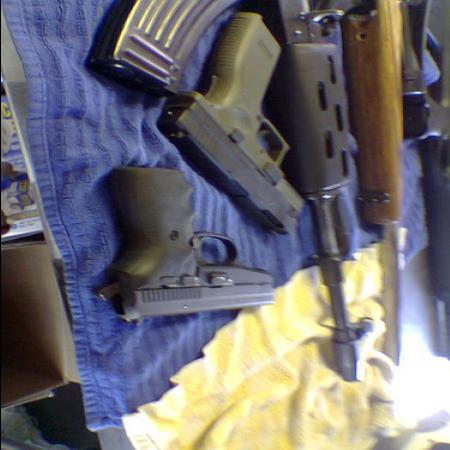Pistol: (161, 10, 311, 235), (99, 164, 278, 324)
